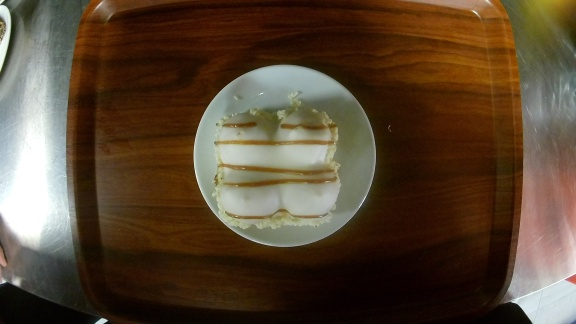beyazpasta: (194, 64, 377, 247)
